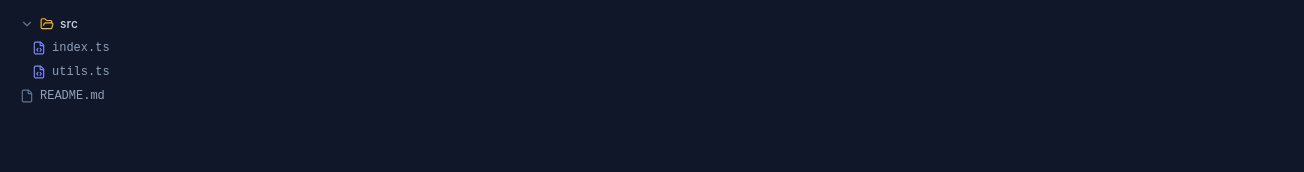
Test: FileTree › collapses a directory when its button is clicked
// Collapse the 'src' directory
Click the button "src" at [27, 24], box [12, 12, 1292, 36]
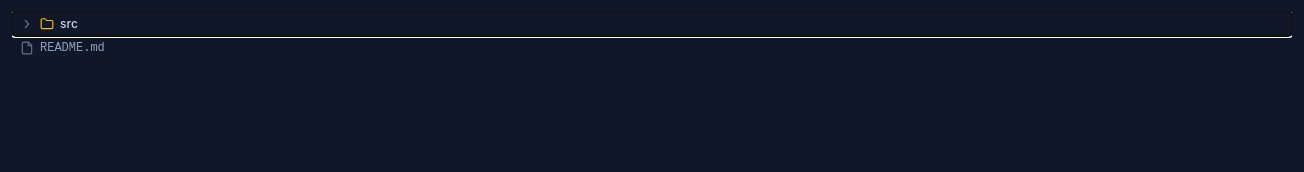
Expected: the button "index.ts" is gone
